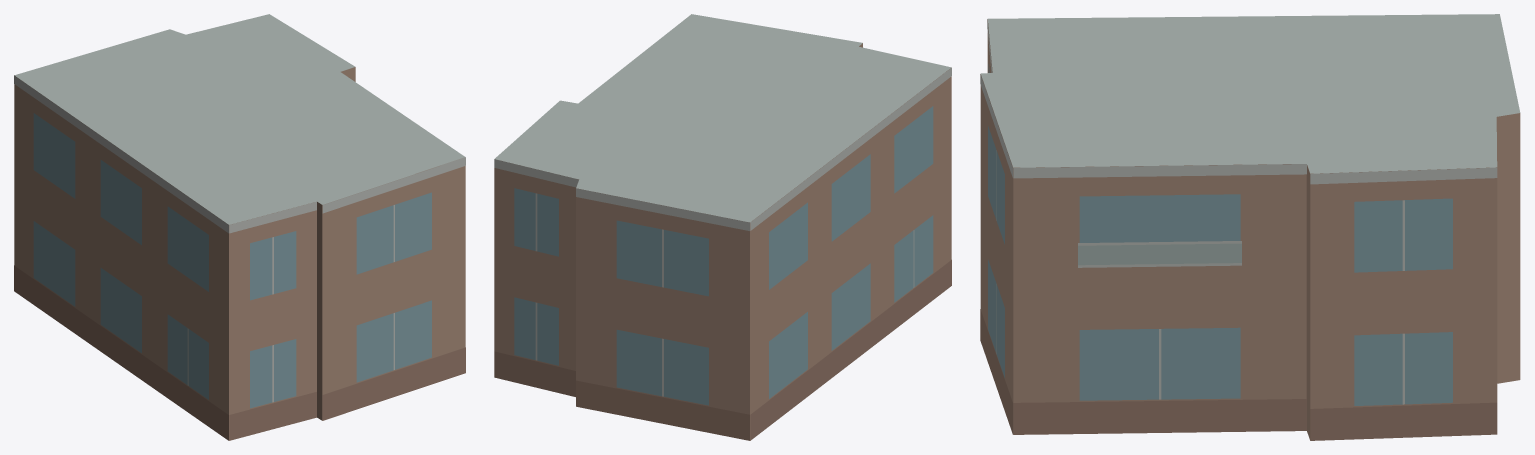
File: survey-upis-32666298.glb
3 renders of one model, left to right at view 1: azimuth 30°, elevation 25°; view 2: azimuth 150°, elevation 25°; view 3: azimuth 270°, elevation 25°, orthographic. The views are drawn at different scales.
Visible parts, largest first — view 1: survey-upis-32666298.tmp; view 2: survey-upis-32666298.tmp; view 3: survey-upis-32666298.tmp.
Part boxes in pixels (x1,y1,x2,y2): survey-upis-32666298.tmp: (14, 14, 465, 440); survey-upis-32666298.tmp: (494, 14, 951, 440); survey-upis-32666298.tmp: (980, 14, 1520, 440).
Bounding box in the file's own units: 7.84 × 6.1 × 11.19.
